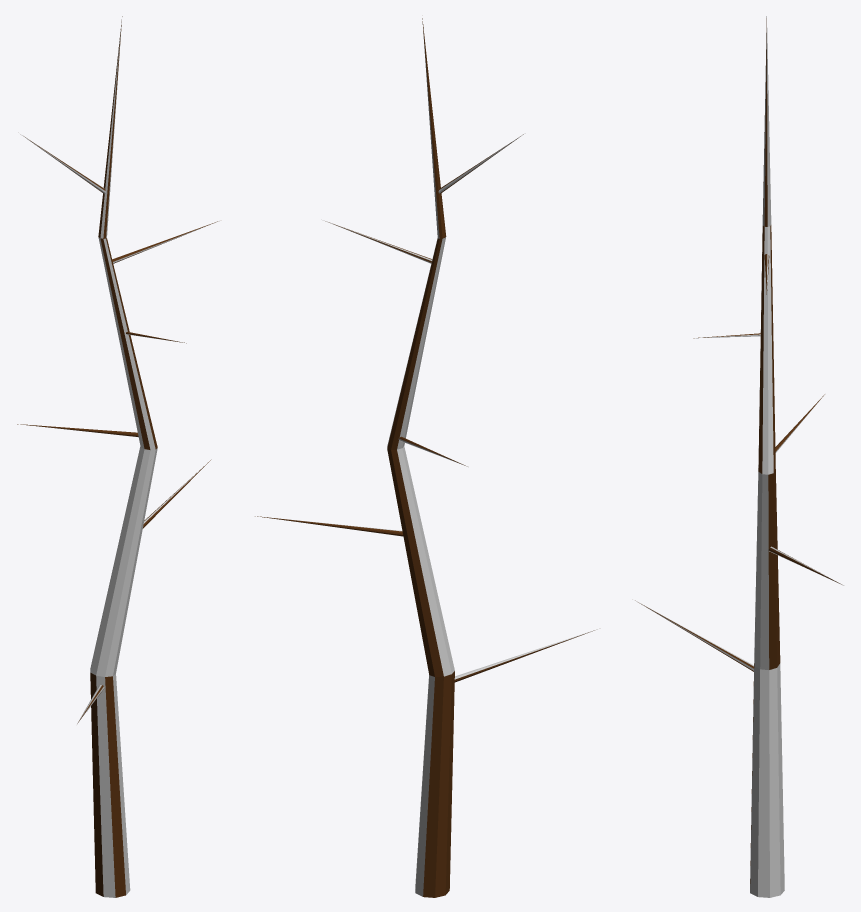
The model's file is Tree_16.fbx.
3 renders of one model, left to right at view 1: azimuth 30°, elevation 25°; view 2: azimuth 150°, elevation 25°; view 3: azimuth 270°, elevation 25°, orthographic.
Visible parts, largest first — view 1: Tree_16; view 2: Tree_16; view 3: Tree_16.
Boxes of the visible parts, x1,y1,x2,y2 form: Tree_16: [17, 16, 218, 897]; Tree_16: [255, 18, 597, 897]; Tree_16: [635, 16, 844, 897].
Size of the model in its own units: 161 by 550 by 122.
